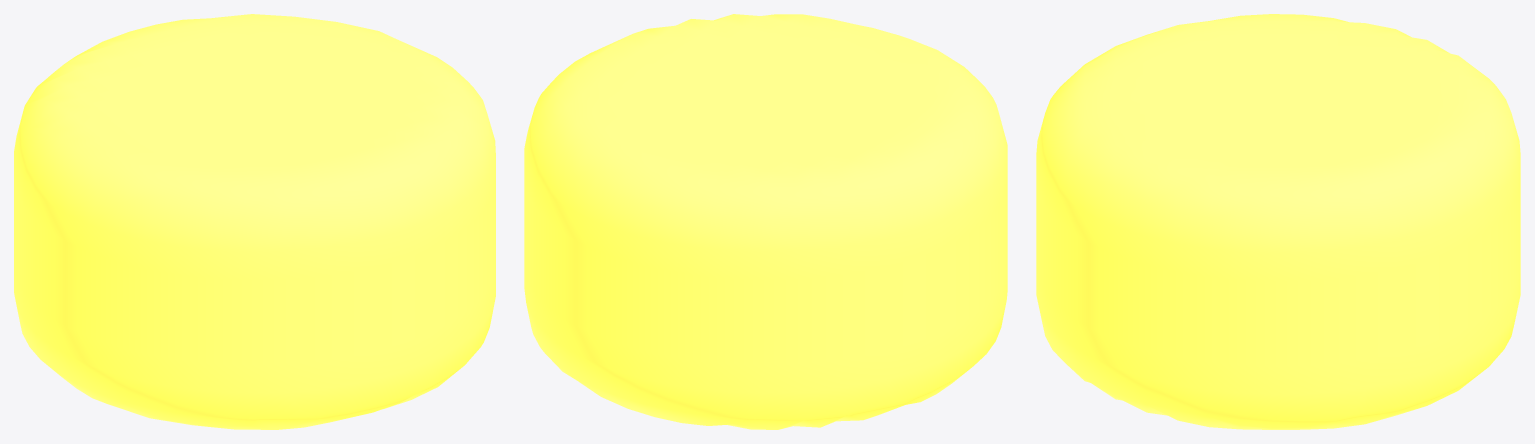
Rendered from 051_left_temple_status_led.glb.
The picture shows the model from 3 angles, left to right: view 1: azimuth 30°, elevation 25°; view 2: azimuth 150°, elevation 25°; view 3: azimuth 270°, elevation 25°; orthographic projection.
Visible parts, largest first — view 1: 051 | Left Temple Status LED; view 2: 051 | Left Temple Status LED; view 3: 051 | Left Temple Status LED.
Boxes of the visible parts, <box> form: 051 | Left Temple Status LED: <box>14,14,495,429</box>; 051 | Left Temple Status LED: <box>524,14,1007,429</box>; 051 | Left Temple Status LED: <box>1036,14,1520,429</box>.
Size of the model in its own units: 0.0014 by 0.0008 by 0.0014.
